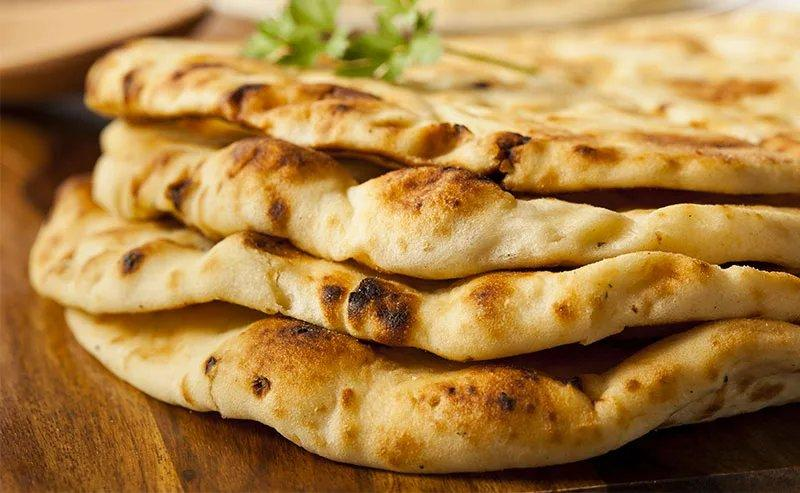Naan: (30, 10, 800, 466)
